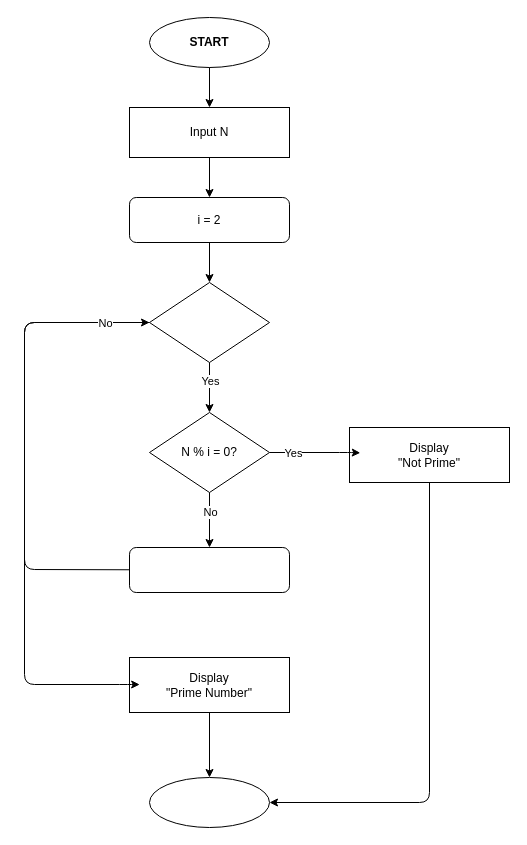
This 527x845 diagram has some shape labels left out. Here are the shapes that lost their labels. From the top down, the box of each, then its label:
(148, 282, 270, 362): i < N?
(128, 546, 290, 592): i = i + 1
(148, 776, 270, 828): END
